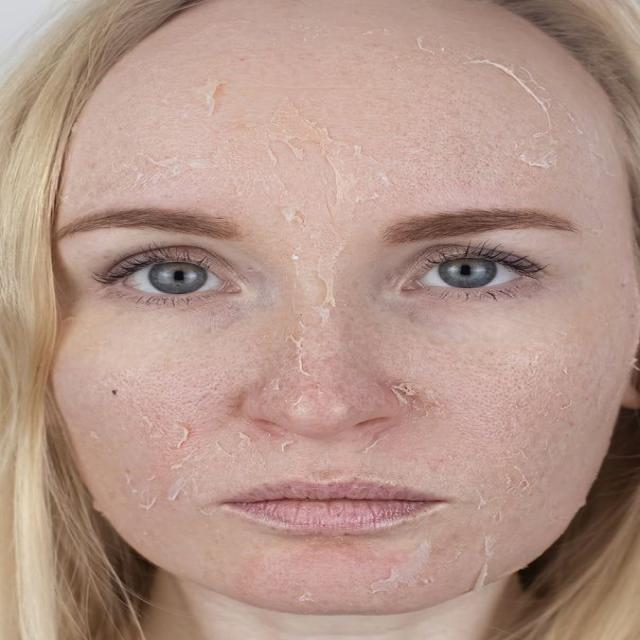Dry-Skin: (313, 73, 450, 149), (132, 82, 249, 160), (281, 324, 389, 407), (276, 551, 413, 604), (482, 366, 562, 454), (84, 395, 190, 460), (501, 114, 601, 182)
